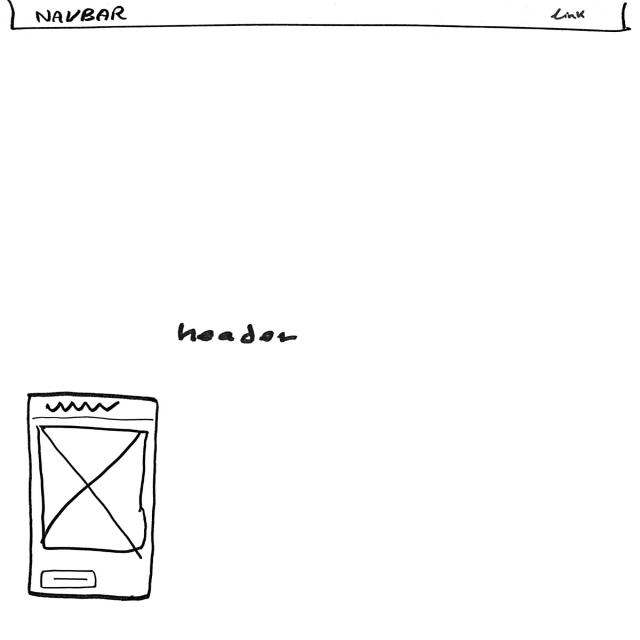container: (26, 391, 162, 604), (8, 1, 629, 35)
icon-button: (39, 569, 101, 590)
image: (38, 424, 150, 554)
label: (176, 325, 299, 348), (36, 6, 129, 25), (551, 8, 590, 24)
text: (44, 402, 123, 415)
